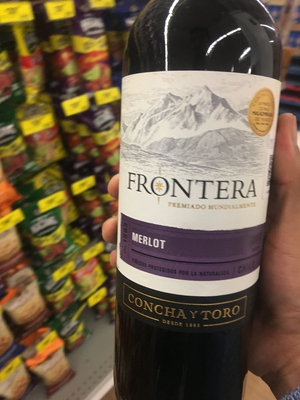frontera merlot: (105, 8, 287, 400)
